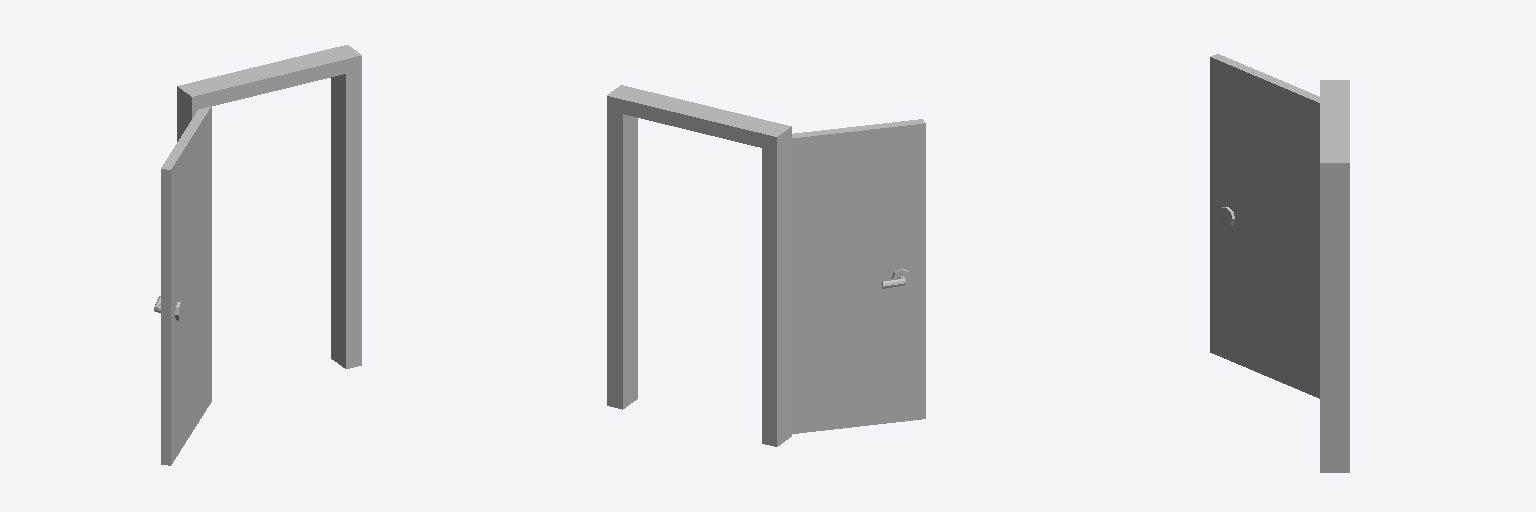
Rendered from door_open.obj.
3 views of the same model, side by side, from view 1: azimuth 30°, elevation 25°; view 2: azimuth 150°, elevation 25°; view 3: azimuth 270°, elevation 25° (orthographic).
Parts seen in each view (by area): view 1: House_Pack.obj00f856ee-0940-472c-bbf3-ebf873640a90.325; view 2: House_Pack.obj00f856ee-0940-472c-bbf3-ebf873640a90.325; view 3: House_Pack.obj00f856ee-0940-472c-bbf3-ebf873640a90.325.
Part boxes in pixels (bbox=[...]): House_Pack.obj00f856ee-0940-472c-bbf3-ebf873640a90.325: bbox=[154, 45, 361, 465]; House_Pack.obj00f856ee-0940-472c-bbf3-ebf873640a90.325: bbox=[607, 85, 925, 446]; House_Pack.obj00f856ee-0940-472c-bbf3-ebf873640a90.325: bbox=[1210, 54, 1349, 472].
Size of the model in its own units: 25.75 by 30.16 by 12.31.